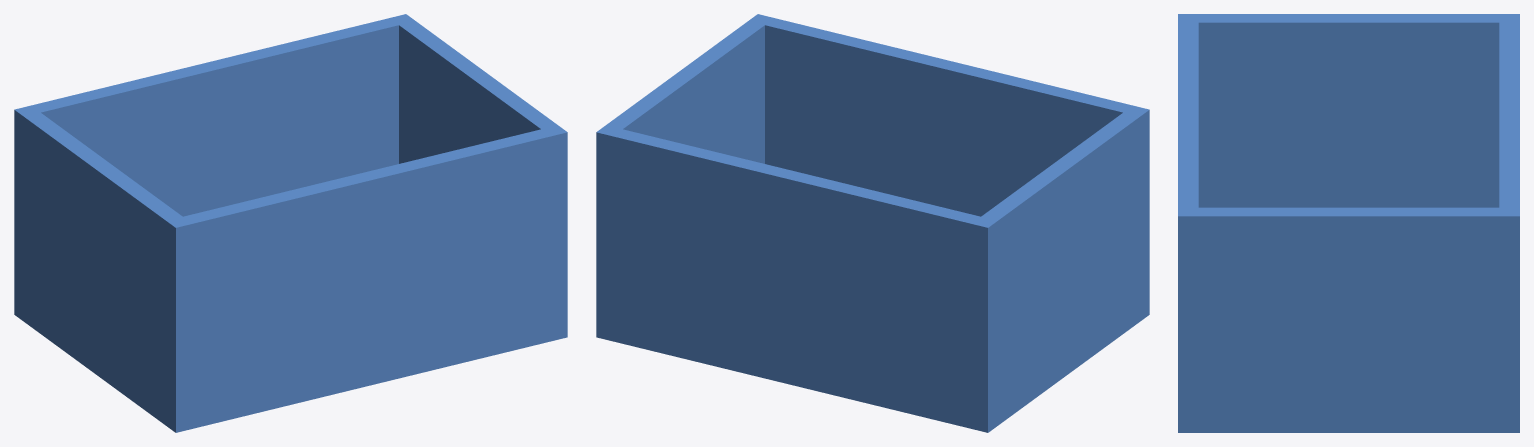
File: crate_blue.fbx
3 renders of one model, left to right at view 1: azimuth 30°, elevation 25°; view 2: azimuth 150°, elevation 25°; view 3: azimuth 270°, elevation 25°, orthographic. The views are drawn at different scales.
Parts seen in each view (by area): view 1: crate_blue; view 2: crate_blue; view 3: crate_blue.
Boxes of the visible parts, left/top/right/bottom form: crate_blue: left=14, top=14, right=567, bottom=432; crate_blue: left=596, top=14, right=1149, bottom=432; crate_blue: left=1178, top=14, right=1519, bottom=432.
Size of the model in its own units: 0.14 by 0.07 by 0.1.
